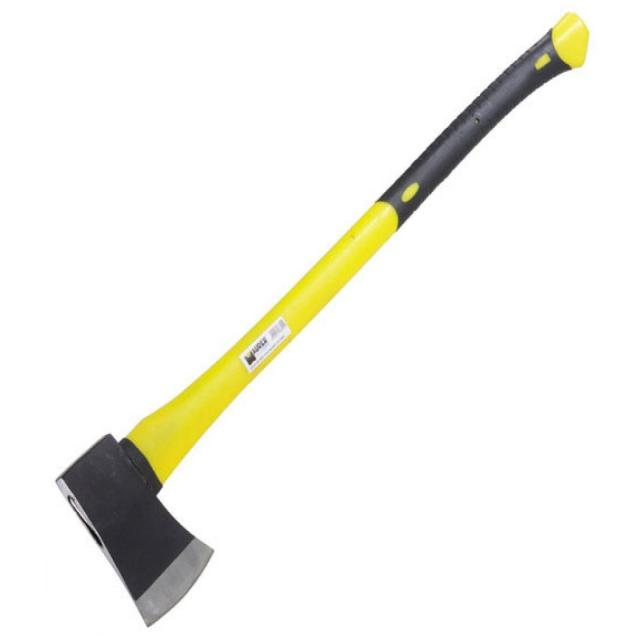Kapak: (26, 11, 571, 585)
